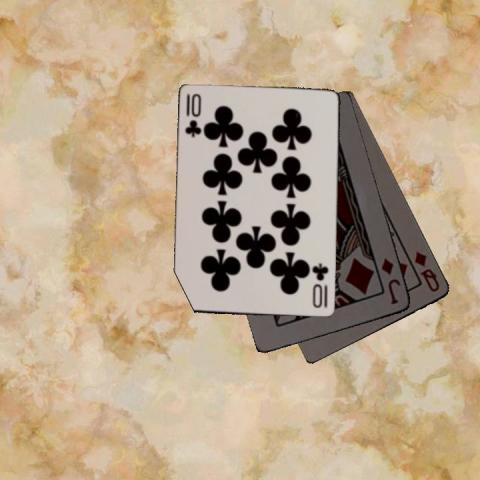10c: (310, 261, 330, 310), (183, 91, 202, 139)
Jd: (378, 255, 403, 306)
Qd: (412, 249, 442, 294)
